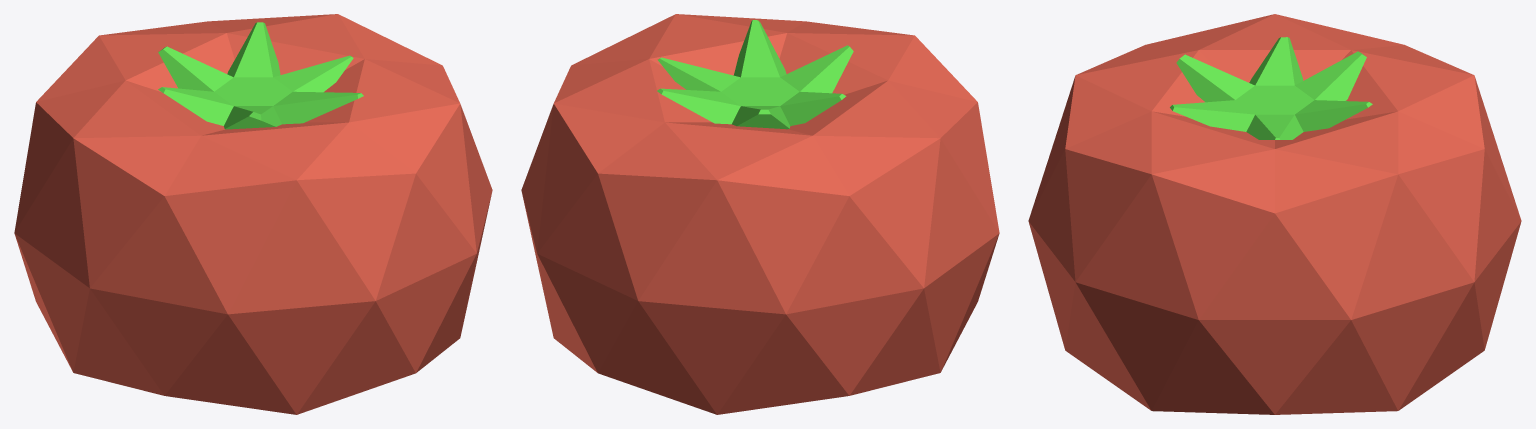
File: tomato.glb
3 views of the same model, side by side, from view 1: azimuth 30°, elevation 25°; view 2: azimuth 150°, elevation 25°; view 3: azimuth 270°, elevation 25° (orthographic).
Parts seen in each view (by area): view 1: Icosphere; view 2: Icosphere; view 3: Icosphere.
Boxes of the visible parts, x1,y1,x2,y2 form: Icosphere: [14, 14, 492, 414]; Icosphere: [521, 14, 999, 414]; Icosphere: [1028, 14, 1521, 414].
Bounding box in the file's own units: 1.9 × 1.22 × 2.
